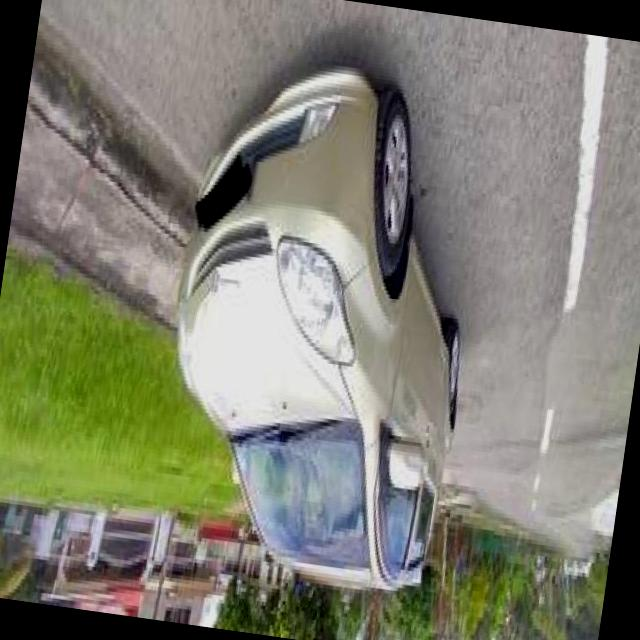PeroduaMyvi: (140, 48, 506, 608)
